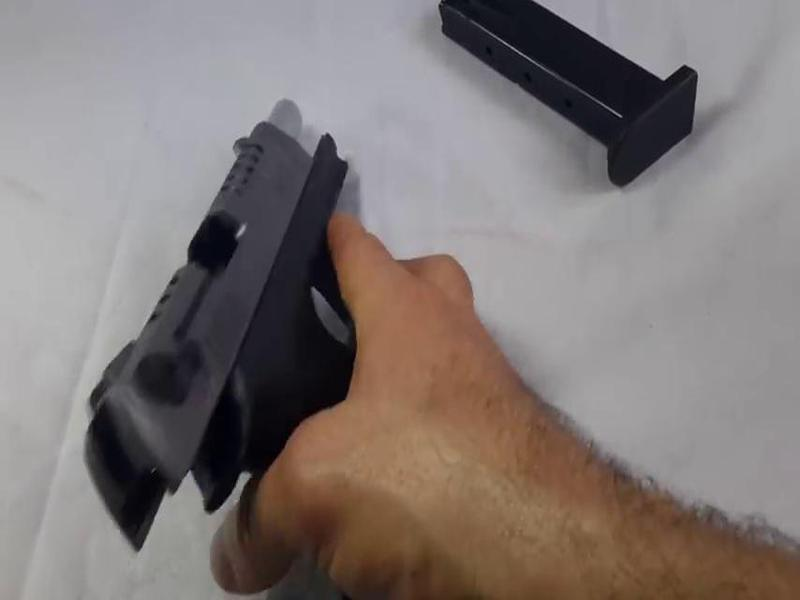Pistola: (69, 70, 415, 561)
